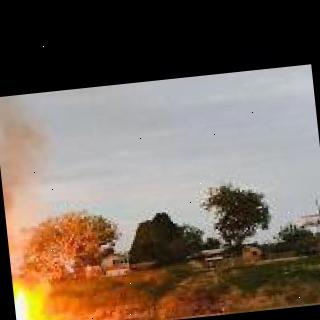fire: (0, 106, 61, 274), (12, 282, 37, 320)
